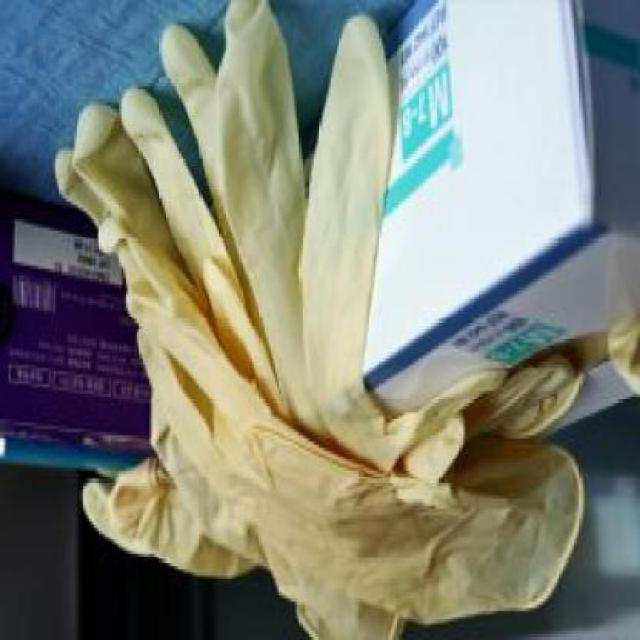gloved_hand: (49, 2, 583, 640)
